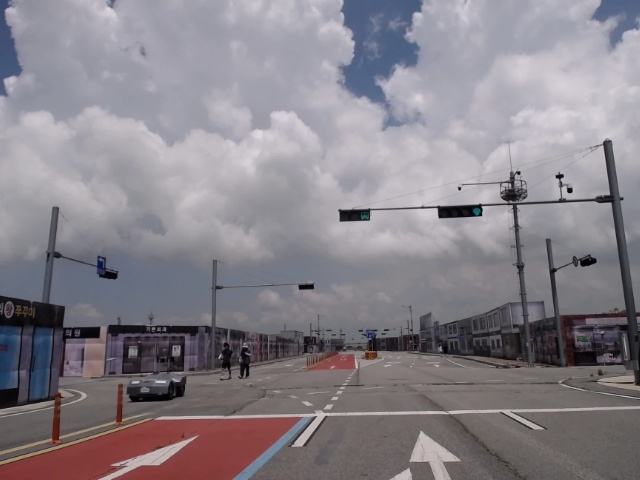straight_green_4: (440, 207, 482, 217)
